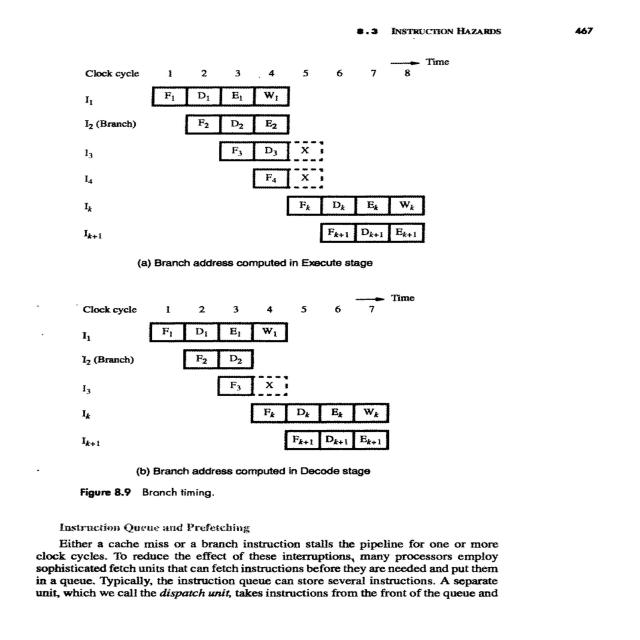diagram: (38, 39, 640, 494)
